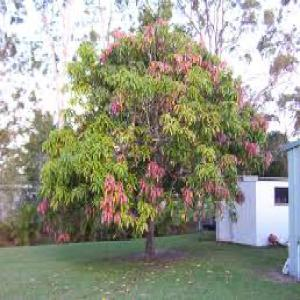Tree: (43, 17, 269, 261)
